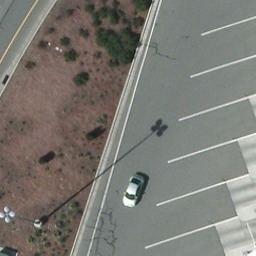car: (120, 176, 150, 213)
